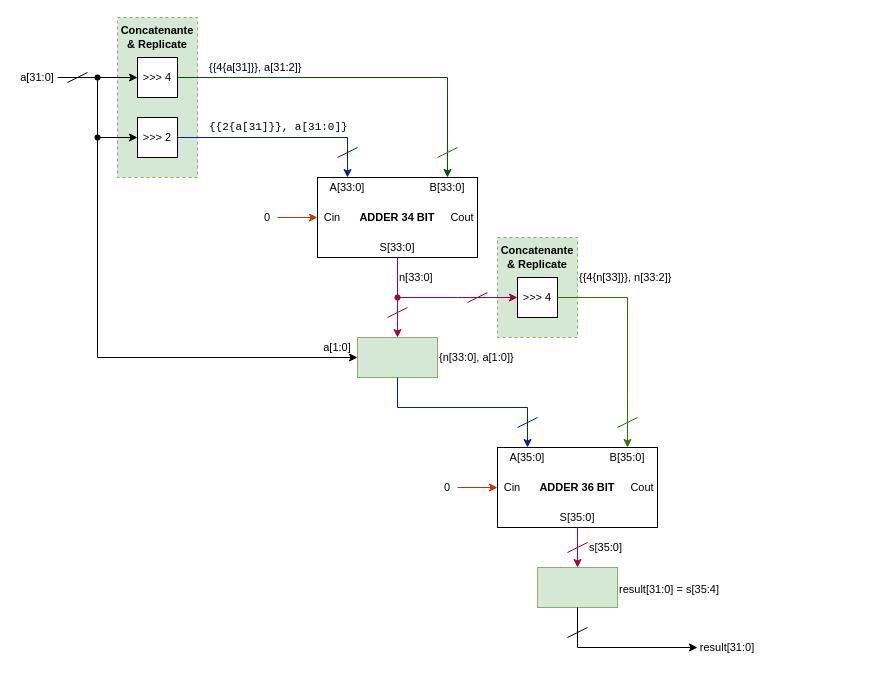
Image size: 879x675. Some labels were removed from this diagram. Here are the shapes that lost their labels. From the top down, the centre of each, then its label:
the point at 397,357: Replicate
the point at 577,587: Concatenante
